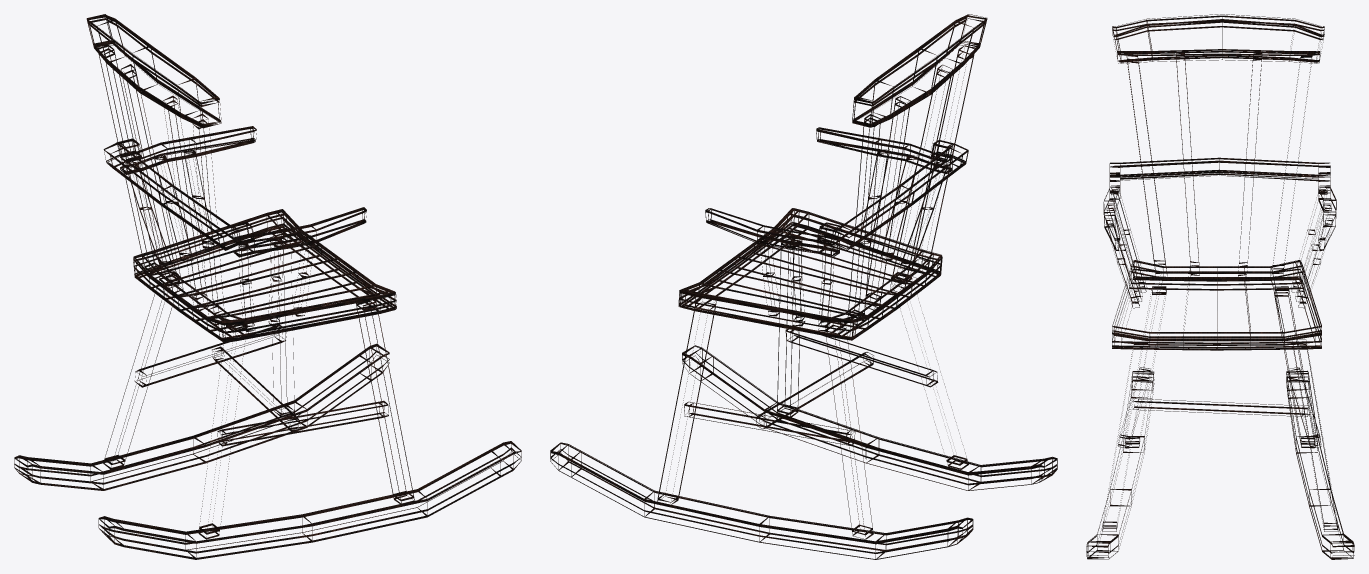
File: chair_wireframe.glb
The picture shows the model from 3 angles, left to right: view 1: azimuth 30°, elevation 25°; view 2: azimuth 150°, elevation 25°; view 3: azimuth 270°, elevation 25°; orthographic projection. The views are drawn at different scales.
Parts seen in each view (by area): view 1: Cube.119; view 2: Cube.119; view 3: Cube.119.
Part boxes in pixels (x1,y1,x2,y2): Cube.119: (14, 14, 521, 559); Cube.119: (550, 14, 1057, 559); Cube.119: (1086, 14, 1354, 559).
Bounding box in the file's own units: 2.15 × 2.53 × 1.39.
Materials: 1 (1 with a texture image).
